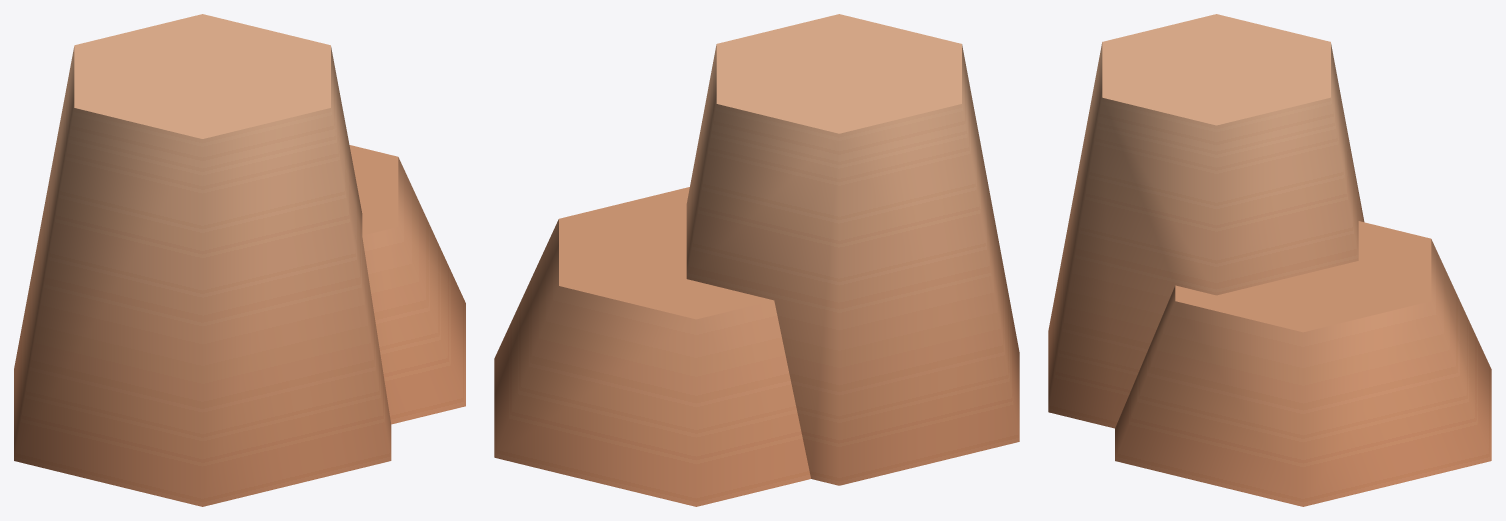
The model's file is kenney-resource-stone.glb.
The picture shows the model from 3 angles, left to right: view 1: azimuth 30°, elevation 25°; view 2: azimuth 150°, elevation 25°; view 3: azimuth 270°, elevation 25°; orthographic projection. The views are drawn at different scales.
Visible parts, largest first — view 1: resource-stone; view 2: resource-stone; view 3: resource-stone.
Boxes of the visible parts, <box> form: resource-stone: <box>14,14,465,506</box>; resource-stone: <box>494,14,1019,506</box>; resource-stone: <box>1048,14,1491,506</box>.
Size of the model in its own units: 0.1653 by 0.1068 by 0.1422.
1 material, 1 textured.
